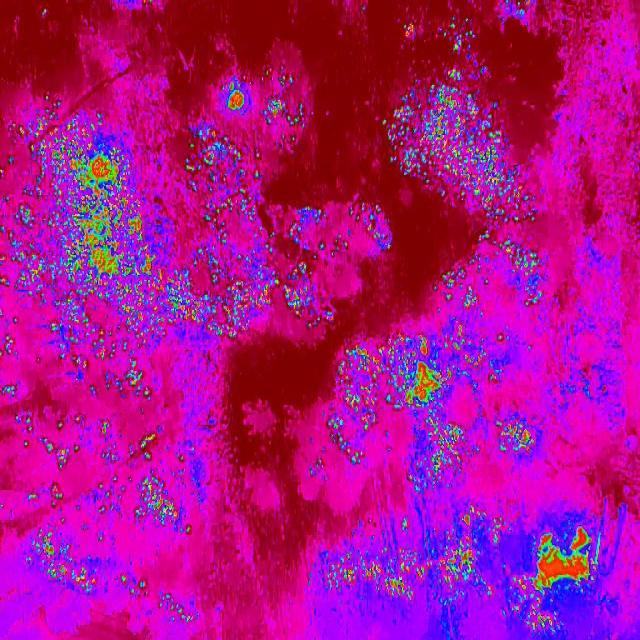fire: (0, 92, 196, 640), (313, 509, 640, 640), (331, 333, 537, 508), (196, 204, 392, 270), (388, 68, 521, 164), (196, 69, 308, 146), (196, 270, 365, 304), (196, 305, 336, 343), (196, 144, 272, 206), (436, 274, 547, 314), (196, 408, 229, 523), (437, 164, 546, 196), (460, 235, 548, 274), (464, 196, 542, 220)
